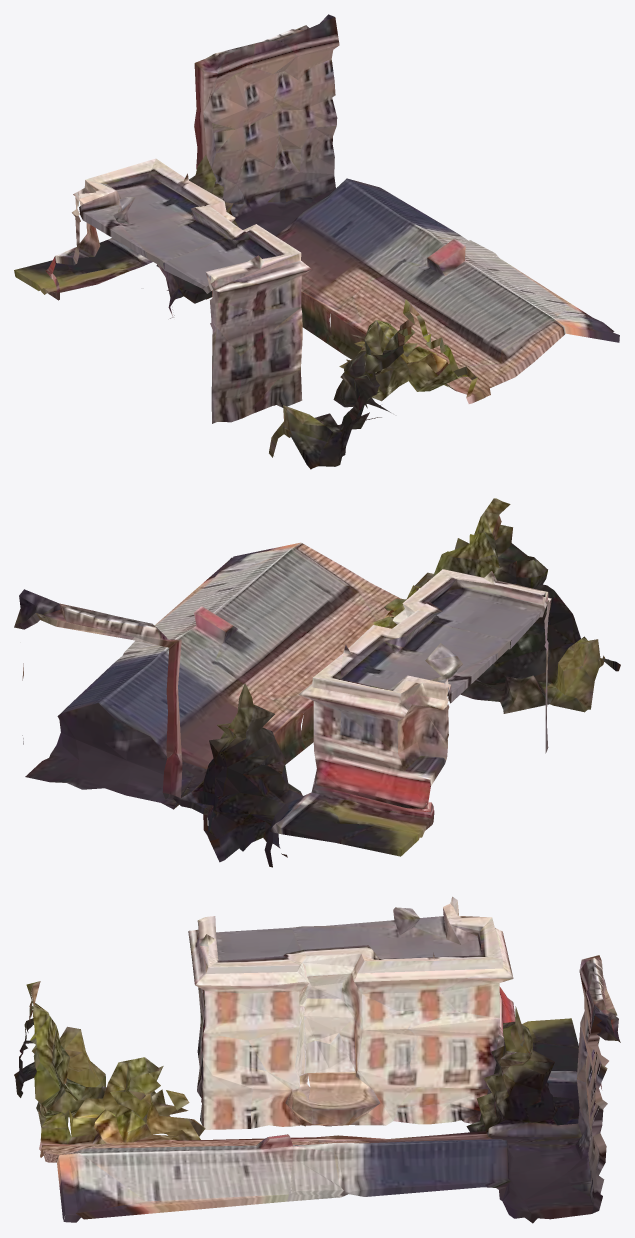
3 views of the same model, one above another, from view 1: azimuth 30°, elevation 25°; view 2: azimuth 150°, elevation 25°; view 3: azimuth 270°, elevation 25° (orthographic). The views are drawn at different scales.
Parts seen in each view (by area): view 1: Mesh_0; view 2: Mesh_0; view 3: Mesh_0.
Part boxes in pixels (x1=…): Mesh_0: x1=14, y1=14, x2=619, y2=469; Mesh_0: x1=14, y1=498, x2=620, y2=867; Mesh_0: x1=14, y1=896, x2=620, y2=1223.
Bounding box in the file's own units: 33.31 × 17.36 × 41.44.
Materials: 2 (2 with a texture image).
